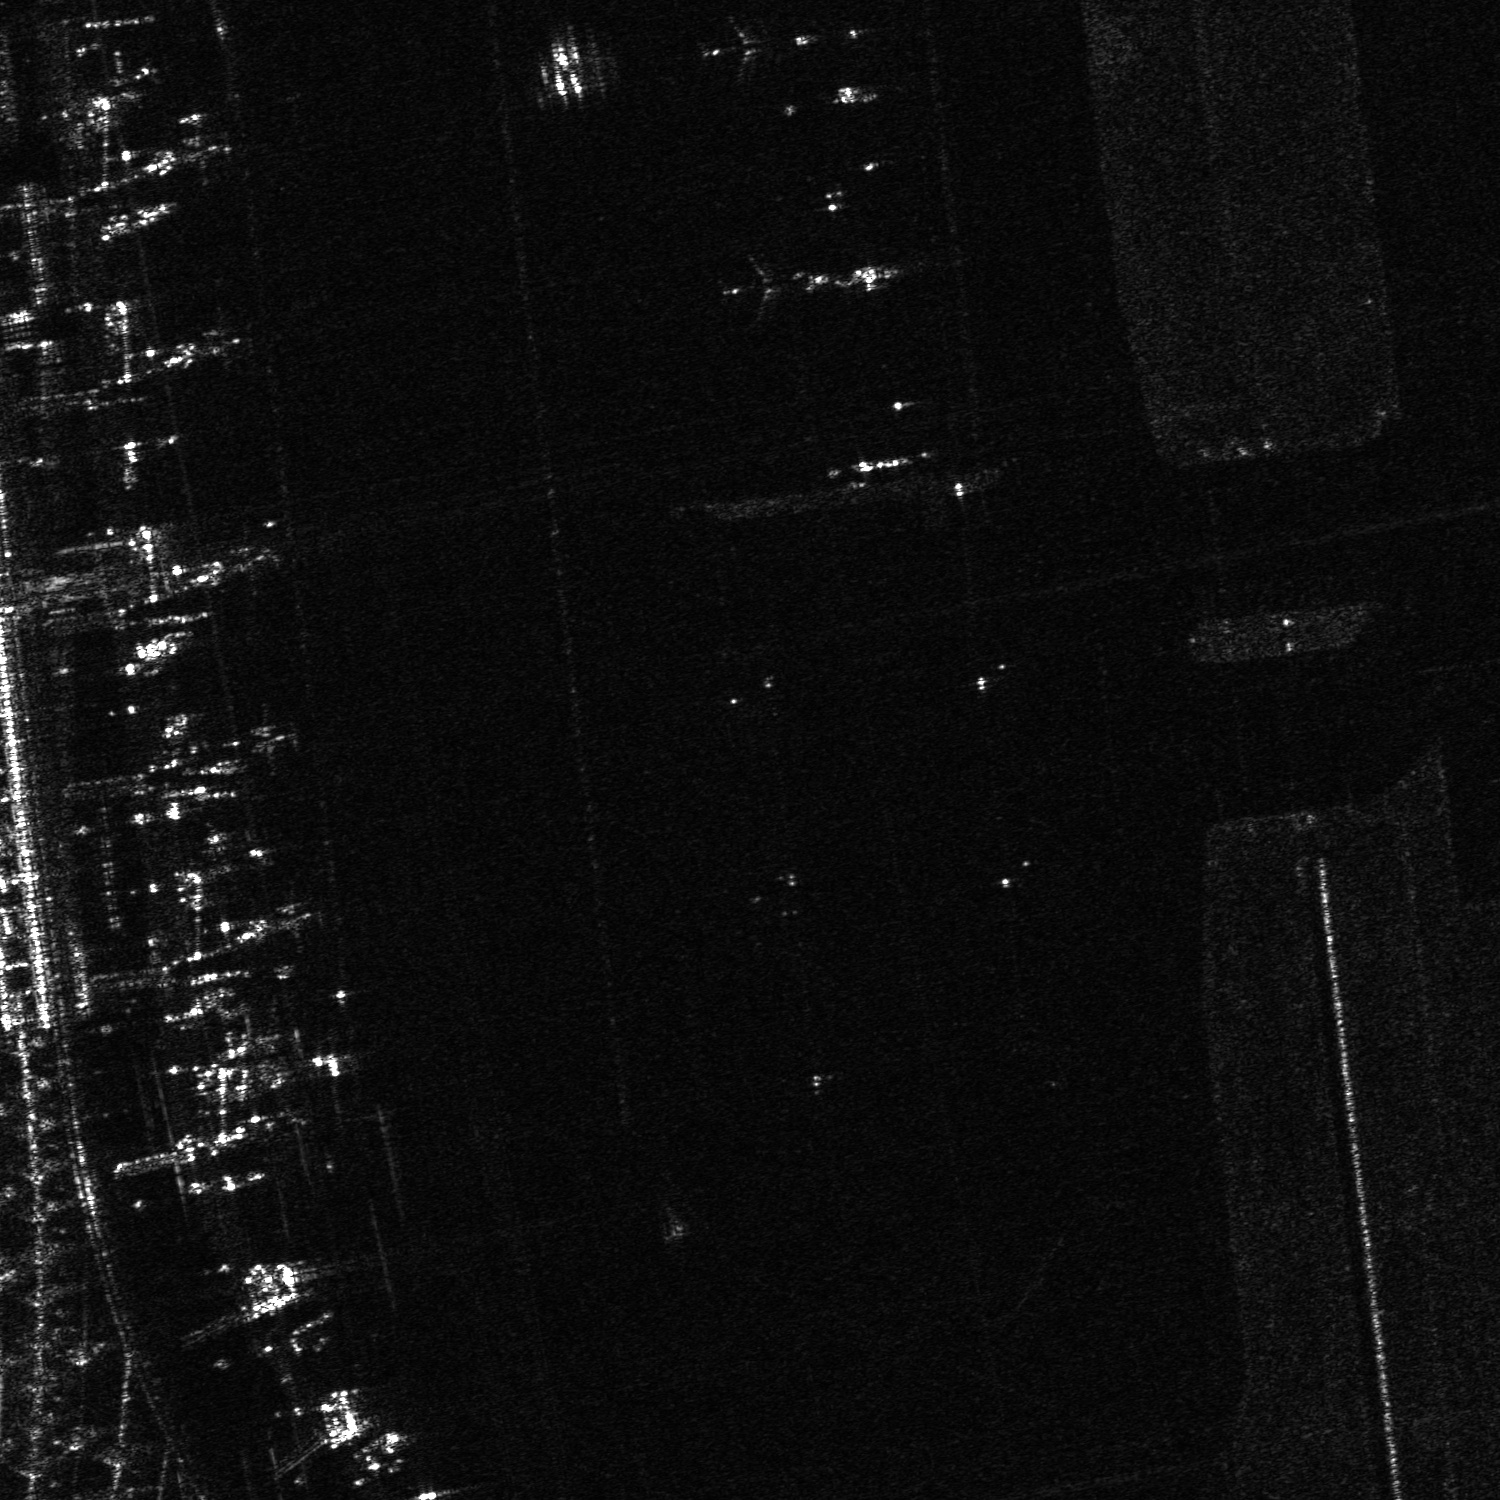Boeing737: (705, 243, 795, 331), (692, 4, 775, 89), (102, 49, 159, 106)
